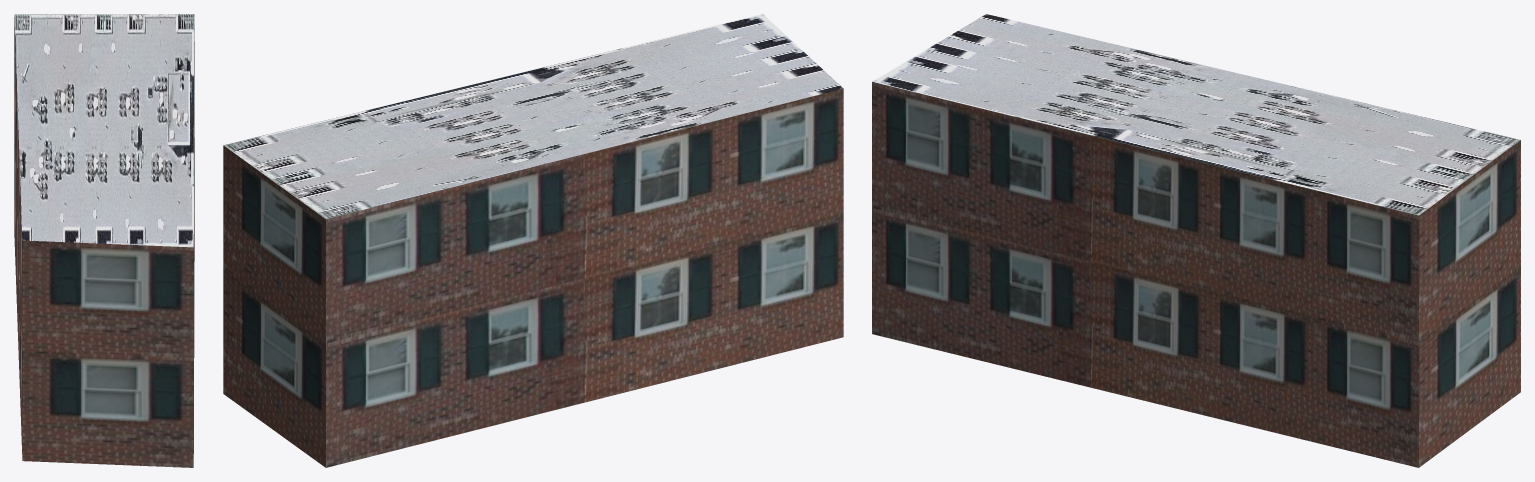
Rendered from ResTex__1241.fbx.
3 renders of one model, left to right at view 1: azimuth 30°, elevation 25°; view 2: azimuth 150°, elevation 25°; view 3: azimuth 270°, elevation 25°, orthographic. The views are drawn at different scales.
Visible parts, largest first — view 1: CityEngineMaterial_m, CityEngineMaterial_14_m; view 2: CityEngineMaterial_14_m, CityEngineMaterial_m; view 3: CityEngineMaterial_14_m, CityEngineMaterial_m.
Part boxes in pixels (x1,y1,x2,y2): CityEngineMaterial_m: [14, 14, 194, 247]; CityEngineMaterial_14_m: [14, 17, 194, 467]; CityEngineMaterial_14_m: [223, 88, 843, 467]; CityEngineMaterial_m: [223, 14, 843, 219]; CityEngineMaterial_14_m: [872, 82, 1520, 467]; CityEngineMaterial_m: [872, 14, 1520, 215].
Size of the model in its own units: 10.28 by 6 by 13.98.
2 materials, 2 textured.
